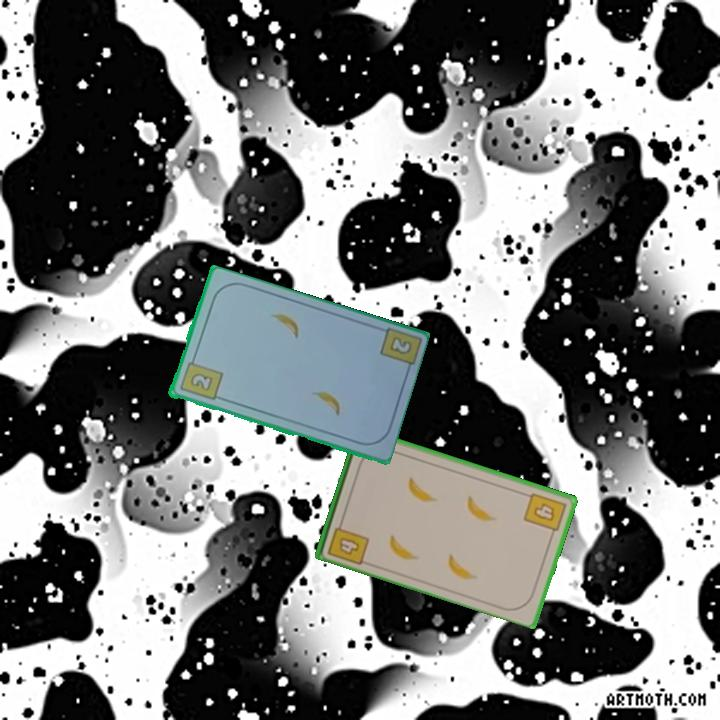2b: (176, 353, 225, 403), (388, 335, 413, 356)
4b: (520, 489, 569, 540), (324, 515, 372, 567)
